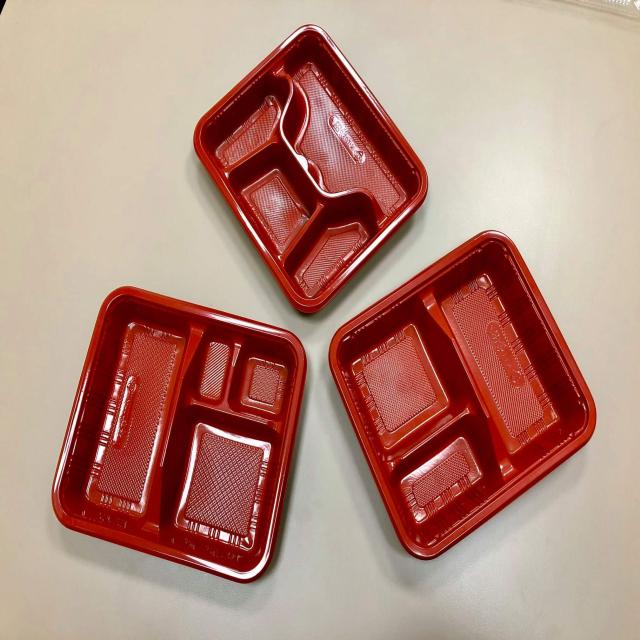plastic: (331, 232, 599, 564), (44, 286, 307, 588), (193, 24, 427, 305)
